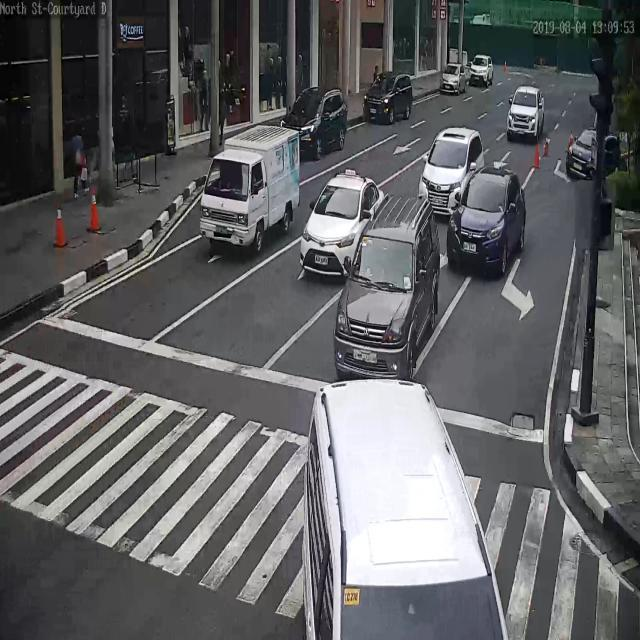car: (333, 194, 442, 377), (299, 170, 387, 278), (445, 164, 527, 274), (280, 83, 348, 150), (566, 125, 619, 176), (364, 72, 412, 125), (506, 85, 544, 138), (438, 63, 467, 96), (470, 54, 494, 87)
van: (301, 377, 507, 640), (199, 121, 301, 251), (418, 127, 484, 216)
